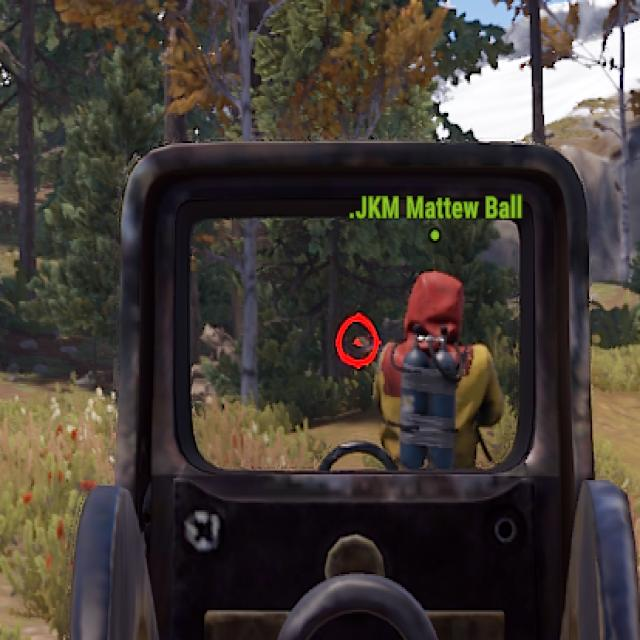Player: (380, 271, 490, 466)
